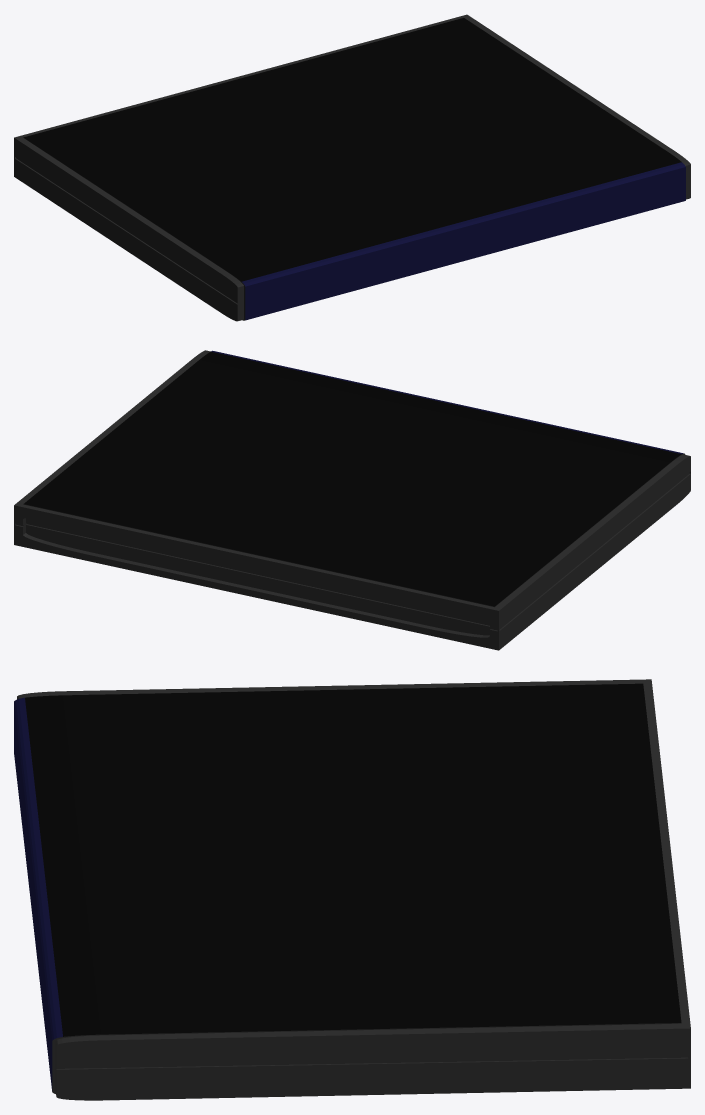
The model's file is GameCase1.fbx.
The picture shows the model from 3 angles, top to bottom: view 1: azimuth 30°, elevation 25°; view 2: azimuth 150°, elevation 25°; view 3: azimuth 270°, elevation 25°; orthographic projection. The views are drawn at different scales.
Parts seen in each view (by area): view 1: Games.001; view 2: Games.001; view 3: Games.001.
Boxes of the visible parts, x1,y1,x2,y2 form: Games.001: (14, 14, 690, 321); Games.001: (14, 350, 690, 650); Games.001: (14, 679, 690, 1100).
Bounding box in the file's own units: 179 × 14.26 × 142.
